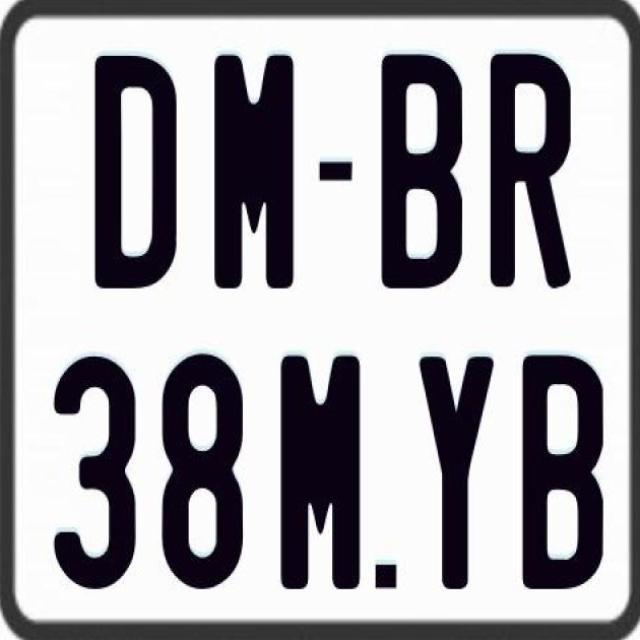license-plate: (18, 18, 640, 611)
